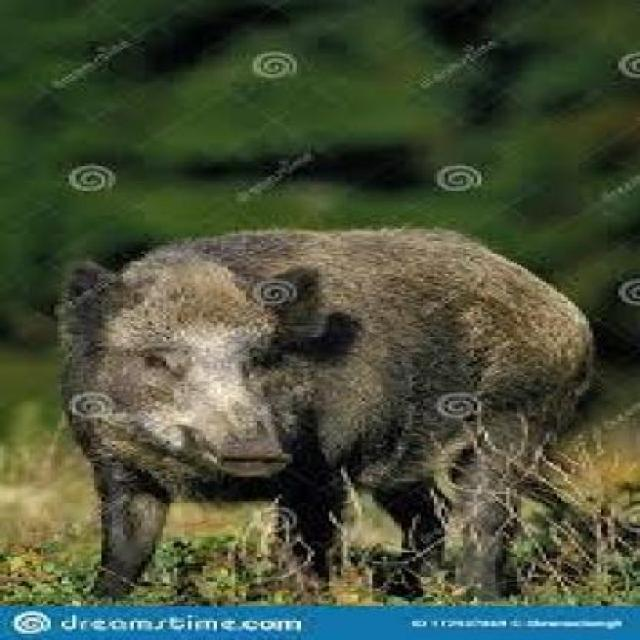wildboar: (51, 216, 598, 610)
